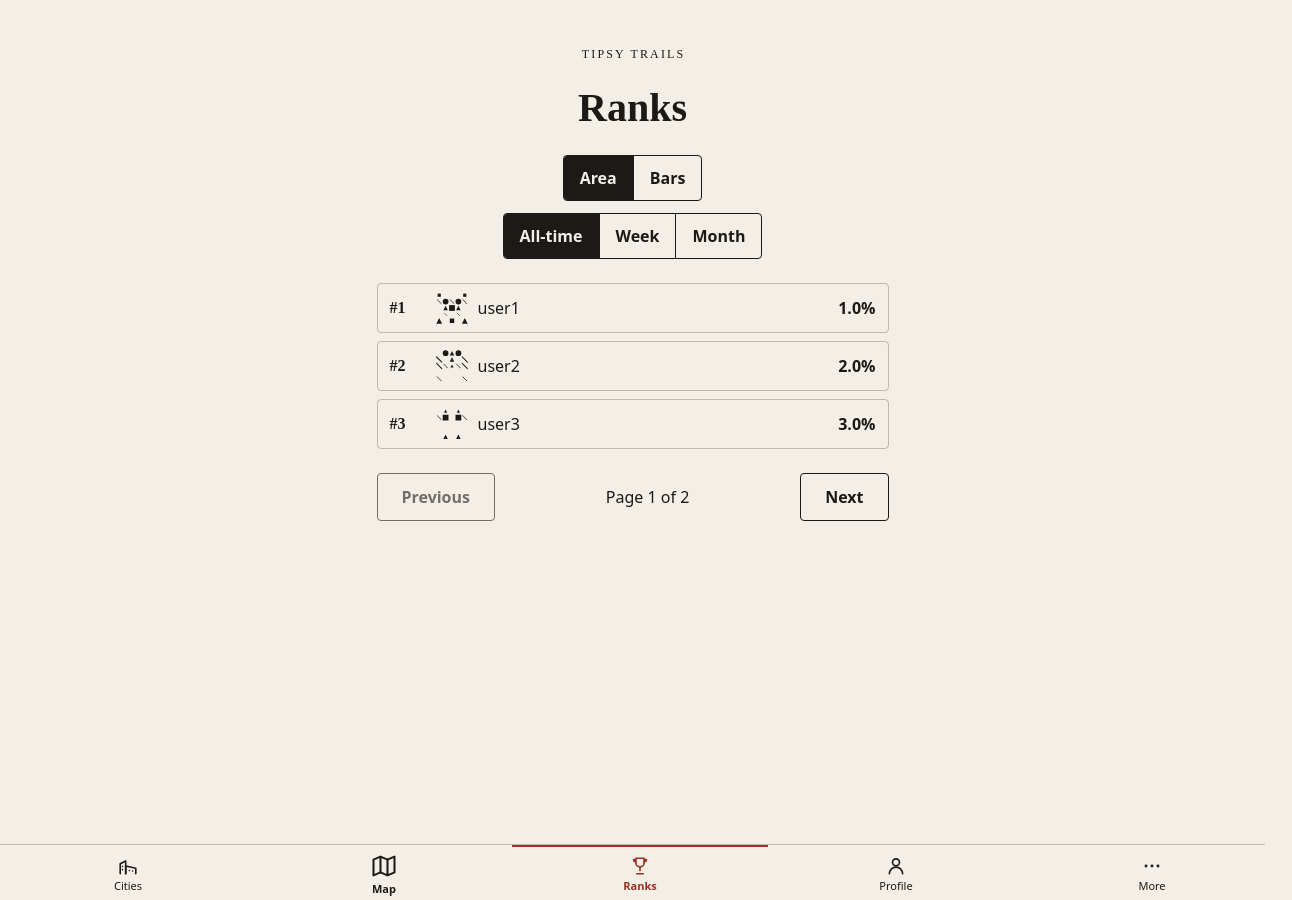
leaderboard › pages without duplicating rows
Expected: the button "Previous" is disabled, left=376, top=473, right=495, bottom=521
Click the button "Next". click: click(844, 497)
box: left=800, top=473, right=888, bottom=521
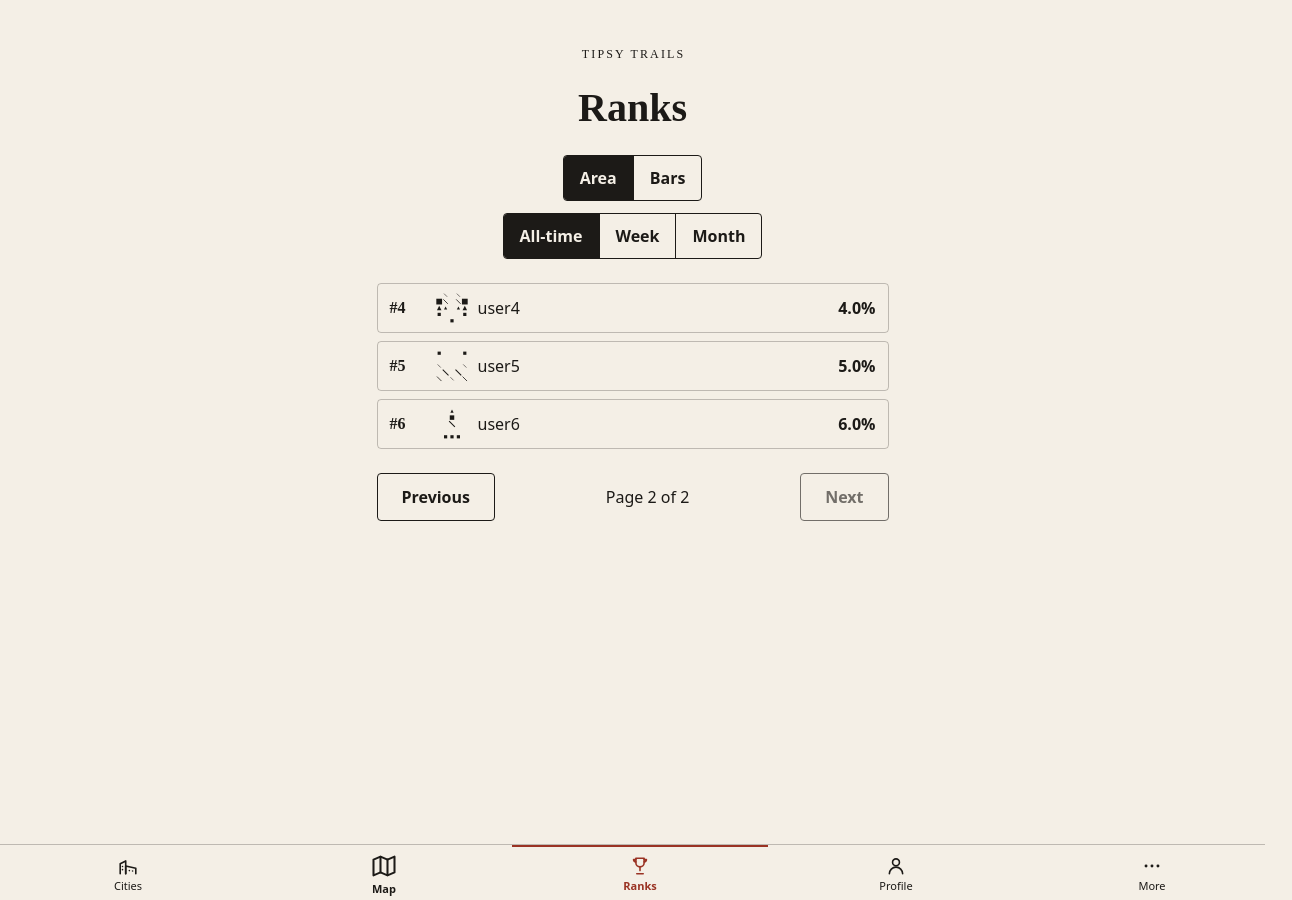
Expected: the button "Previous" is enabled, left=376, top=473, right=495, bottom=521
Expected: the button "Next" is disabled, left=800, top=473, right=888, bottom=521
